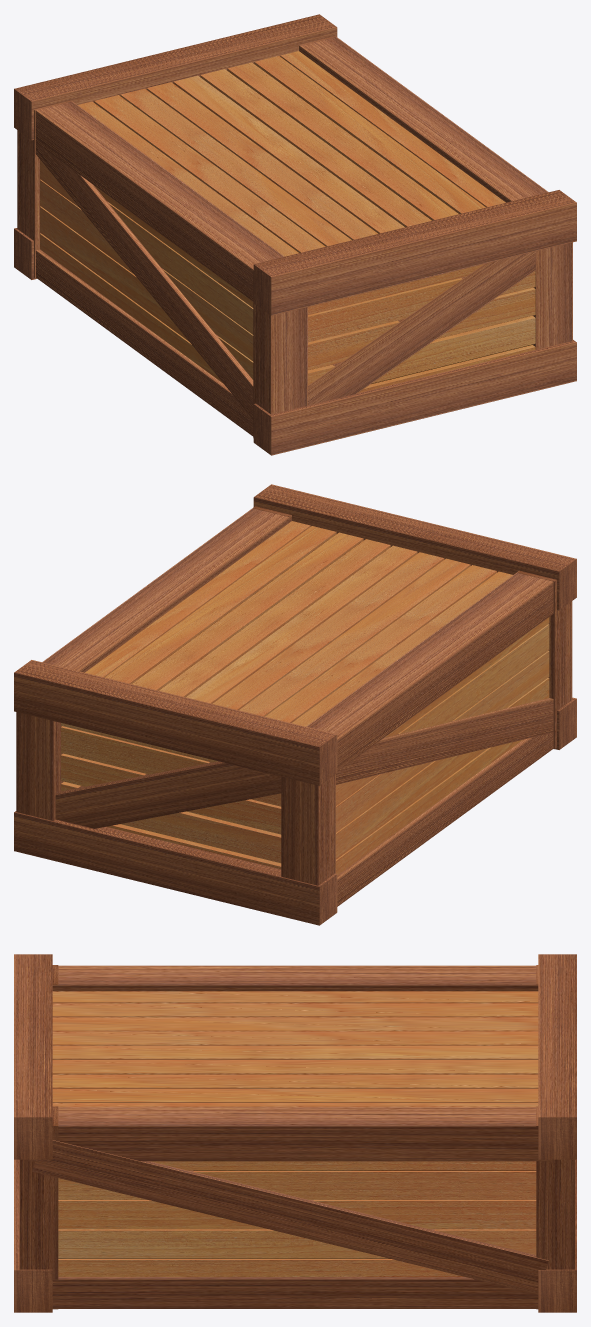
File: closed_crate.fbx
3 renders of one model, top to bottom at view 1: azimuth 30°, elevation 25°; view 2: azimuth 150°, elevation 25°; view 3: azimuth 270°, elevation 25°, orthographic. The views are drawn at different scales.
Parts seen in each view (by area): view 1: Cube.008, Cube.010, Cube.001, Cube.011, Cube.012, Cube.005, Cube.017, Cube.014, Cube.002, Cube.009, Cube.006, Cube.004 (+1 smaller); view 2: Cube.008, Cube.012, Cube.001, Cube.013, Cube.010, Cube.005, Cube.016, Cube.014, Cube.002, Cube.004, Cube.003, Cube.009 (+1 smaller); view 3: Cube.008, Cube.005, Cube.015, Cube.007, Cube.001, Cube.010, Cube.012, Cube.006, Cube.003, Cube.011, Cube.013, inside_crate.
Boxes of the visible parts, <box> form: Cube.008: <box>40,51,535,392</box>; Cube.010: <box>253,190,576,315</box>; Cube.001: <box>35,100,284,301</box>; Cube.011: <box>253,340,576,455</box>; Cube.012: <box>14,14,337,140</box>; Cube.005: <box>299,37,548,202</box>; Cube.017: <box>308,251,535,405</box>; Cube.014: <box>35,143,253,419</box>; Cube.002: <box>36,249,253,436</box>; Cube.009: <box>253,270,307,437</box>; Cube.006: <box>532,242,572,349</box>; Cube.004: <box>17,101,71,277</box>; Cube.008: <box>61,521,549,875</box>; Cube.012: <box>14,660,337,785</box>; Cube.001: <box>306,570,553,771</box>; Cube.013: <box>14,811,337,925</box>; Cube.010: <box>253,484,576,610</box>; Cube.005: <box>42,508,291,672</box>; Cube.016: <box>55,761,281,828</box>; Cube.014: <box>336,698,553,784</box>; Cube.002: <box>337,732,553,906</box>; Cube.004: <box>281,774,335,885</box>; Cube.003: <box>16,712,63,820</box>; Cube.009: <box>517,571,572,749</box>; Cube.008: <box>52,991,538,1276</box>; Cube.005: <box>28,1106,552,1161</box>; Cube.015: <box>32,1140,548,1294</box>; Cube.007: <box>52,1277,538,1308</box>; Cube.001: <box>52,965,538,991</box>; Cube.010: <box>14,954,52,1159</box>; Cube.012: <box>538,954,576,1159</box>; Cube.006: <box>19,1106,58,1309</box>; Cube.003: <box>536,1106,574,1309</box>; Cube.011: <box>14,1159,52,1312</box>; Cube.013: <box>538,1159,576,1312</box>; inside_crate: <box>58,1170,535,1258</box>.
Bounding box in the file's own units: 53.27 × 36.51 × 20.37.
